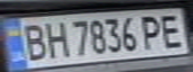3: (103, 16, 124, 54)
6: (118, 15, 142, 53)
7: (69, 17, 90, 56)
8: (87, 16, 109, 55)
B: (18, 20, 51, 62)
E: (157, 11, 187, 50)
H: (39, 18, 69, 60)
P: (136, 12, 169, 51)
